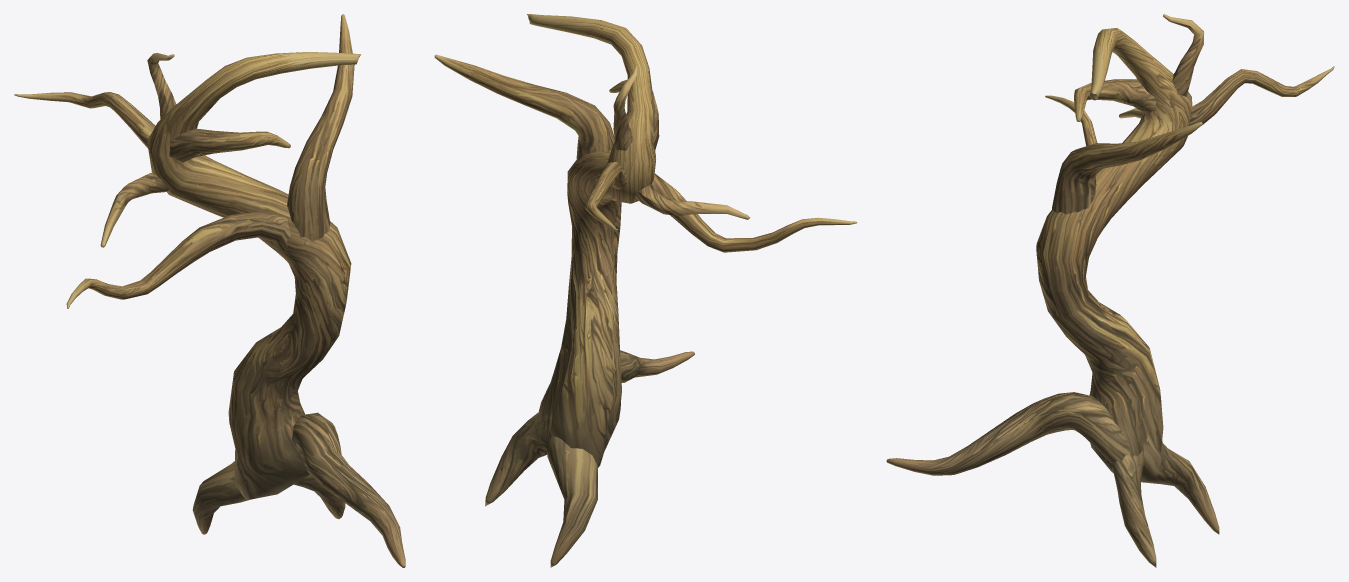
Rendered from DE_Tree_04.fbx.
3 renders of one model, left to right at view 1: azimuth 30°, elevation 25°; view 2: azimuth 150°, elevation 25°; view 3: azimuth 270°, elevation 25°, orthographic. The views are drawn at different scales.
Parts seen in each view (by area): view 1: DE_Tree_04; view 2: DE_Tree_04; view 3: DE_Tree_04.
Part boxes in pixels (x1,y1,x2,y2): DE_Tree_04: [14, 14, 405, 567]; DE_Tree_04: [434, 14, 857, 567]; DE_Tree_04: [886, 14, 1334, 567].
Size of the model in its own units: 10.51 by 14.65 by 11.93.
